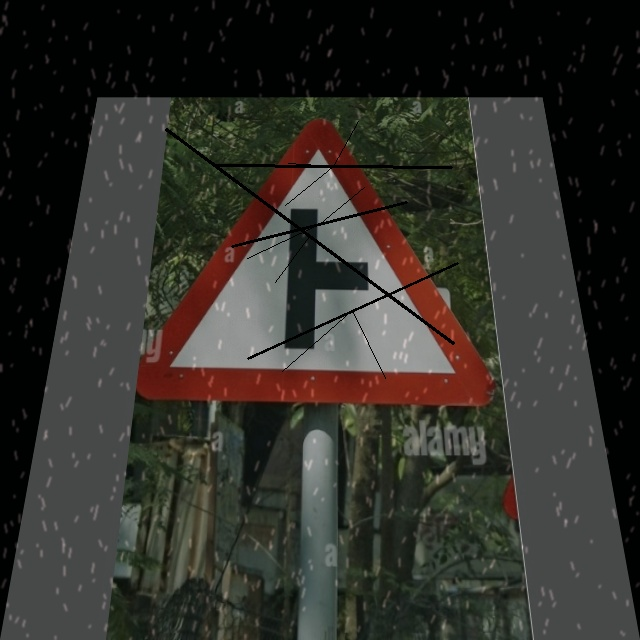Side_Road_Right: (165, 120, 486, 407)
